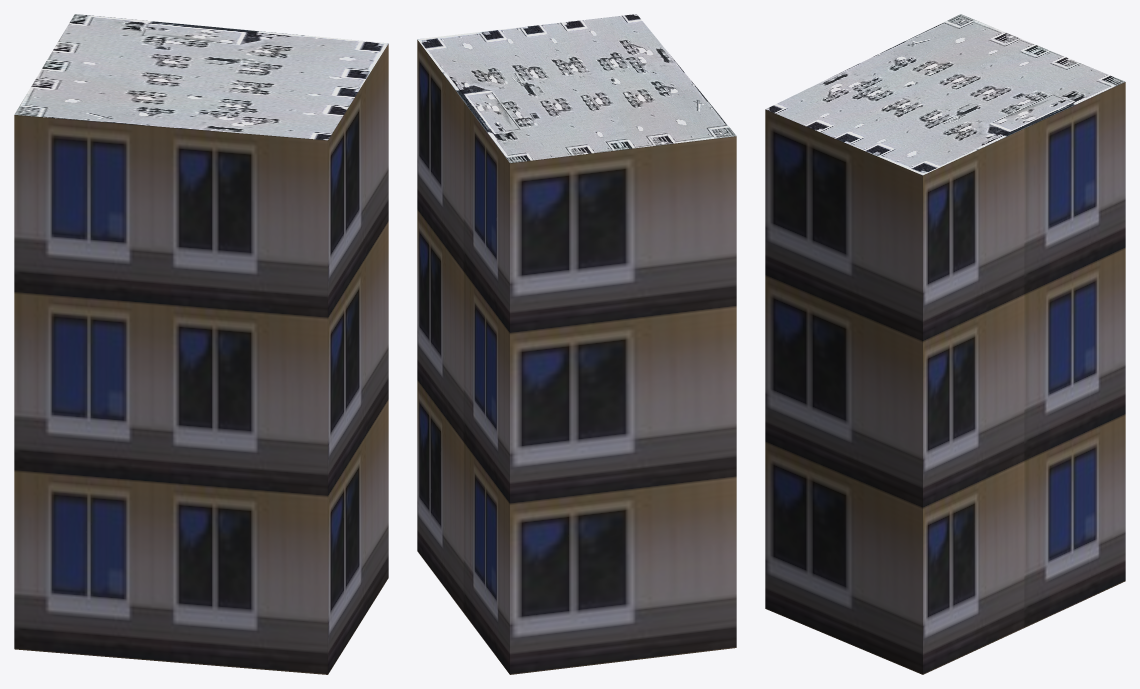
File: ResTex__3538.fbx
3 renders of one model, left to right at view 1: azimuth 30°, elevation 25°; view 2: azimuth 150°, elevation 25°; view 3: azimuth 270°, elevation 25°, orthographic. The views are drawn at different scales.
Visible parts, largest first — view 1: CityEngineMaterial_5_m, CityEngineMaterial_4_m; view 2: CityEngineMaterial_5_m, CityEngineMaterial_4_m; view 3: CityEngineMaterial_5_m, CityEngineMaterial_4_m.
Boxes of the visible parts, left/top/right/bottom form: CityEngineMaterial_5_m: left=14, top=44, right=388, bottom=674; CityEngineMaterial_4_m: left=14, top=14, right=388, bottom=140; CityEngineMaterial_5_m: left=417, top=40, right=736, bottom=674; CityEngineMaterial_4_m: left=417, top=14, right=736, bottom=162; CityEngineMaterial_5_m: left=765, top=82, right=1125, bottom=674; CityEngineMaterial_4_m: left=765, top=14, right=1125, bottom=175.
Size of the model in its own units: 6.24 by 9 by 5.88.
Materials: 2 (2 with a texture image).
